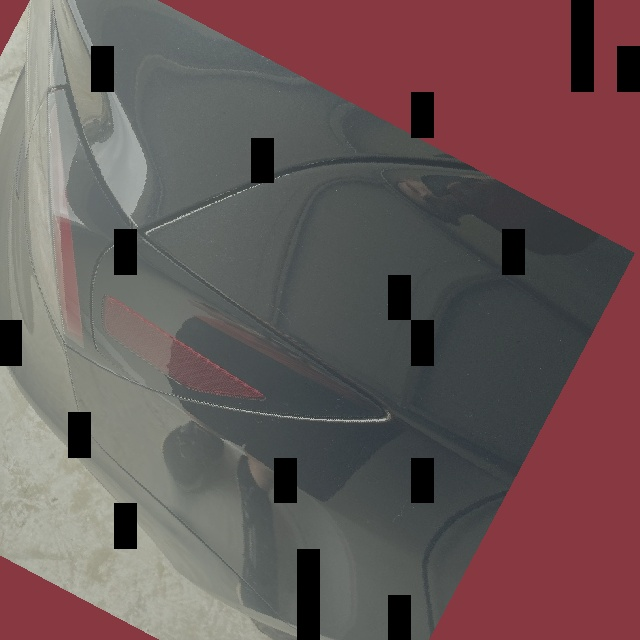reflector: (84, 294, 272, 422)
